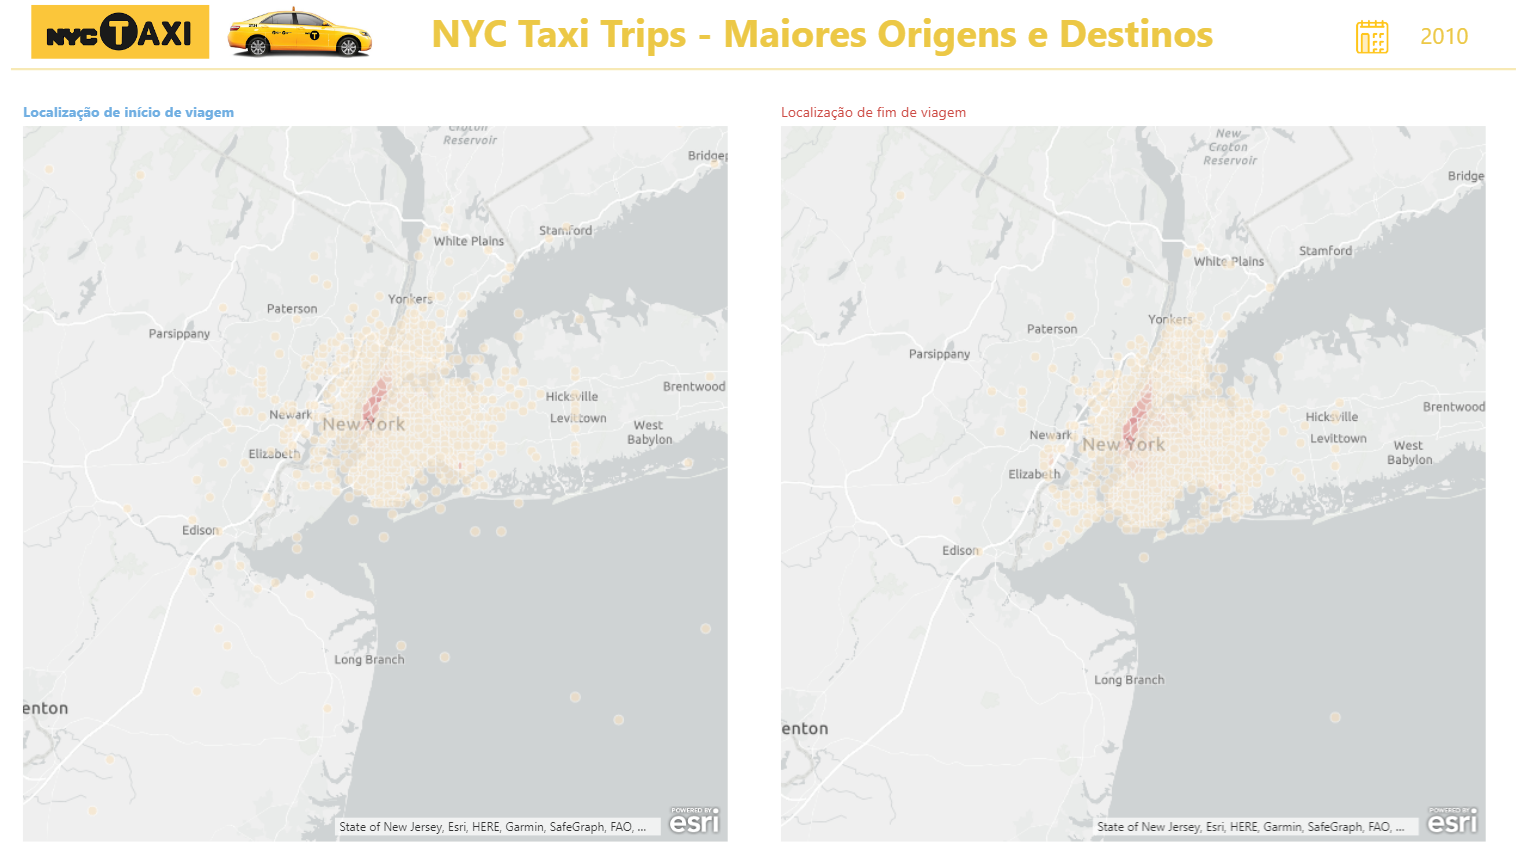

Layout of this report page (visuals, bound fields, positions):
{"tool":"powerbi","page":{"name":"Mapas","canvas":[1280,720],"ordinal":1},"visuals":[{"type":"image","box":[9.7,0,182.4,55],"z":0},{"type":"basicShape","box":[0,50,1280,16.9],"z":1000},{"type":"textbox","box":[344.9,0,697.4,55.3],"z":18000},{"type":"image","box":[1127.7,12.6,42.7,37.7],"z":20000},{"type":"image","box":[178.3,0,148.2,55.3],"z":21000},{"type":"esriVisual","title":"Localização de início de viagem","fields":{"Latitude":["nyctaxi-tripini.lat_ini"],"Longitude":["nyctaxi-tripini.lon_ini"],"Color":["Sum(nyctaxi-tripini.trip_count)"],"Size":["Sum(nyctaxi-tripini.trip_count)"]},"box":[15,85,600,625],"z":21001},{"type":"esriVisual","title":"Localização de fim de viagem","fields":{"Latitude":["nyctaxi-tripfim.lat_fim"],"Longitude":["nyctaxi-tripfim.lon_fim"],"Color":["nyctaxi-tripfim.trip_count"],"Size":["Sum(nyctaxi-tripfim.trip_count)"]},"box":[649.8,85,600,625],"z":21002},{"type":"textbox","box":[1170.4,12.6,79.5,40.2],"z":21003}]}

Visuals, with their boxes in screenshot pixels (x1, y1, x2, y2), scaled from the page's 1280x720 canvas onto the 1520x852 screenshot:
image: box(12, 0, 228, 65)
basicShape: box(0, 59, 1519, 79)
textbox: box(410, 0, 1238, 65)
image: box(1339, 15, 1390, 60)
image: box(212, 0, 388, 65)
"Localização de início de viagem" esriVisual: box(18, 101, 730, 840)
"Localização de fim de viagem" esriVisual: box(772, 101, 1484, 840)
textbox: box(1390, 15, 1484, 62)
